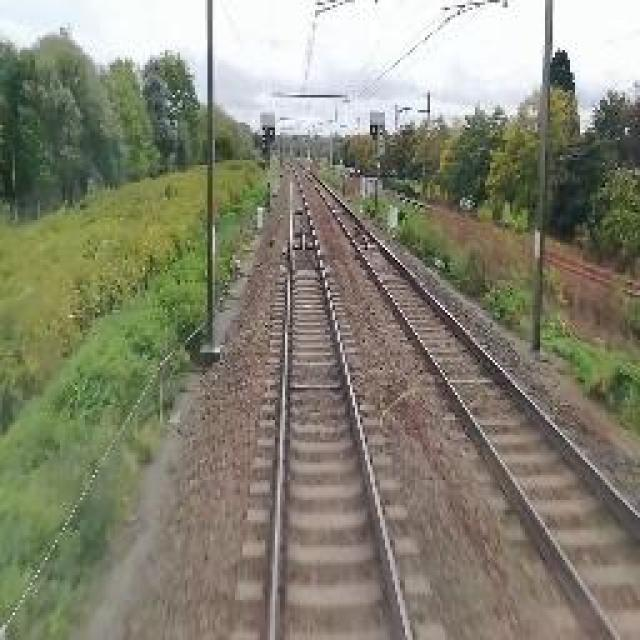rail: (230, 161, 450, 640)
